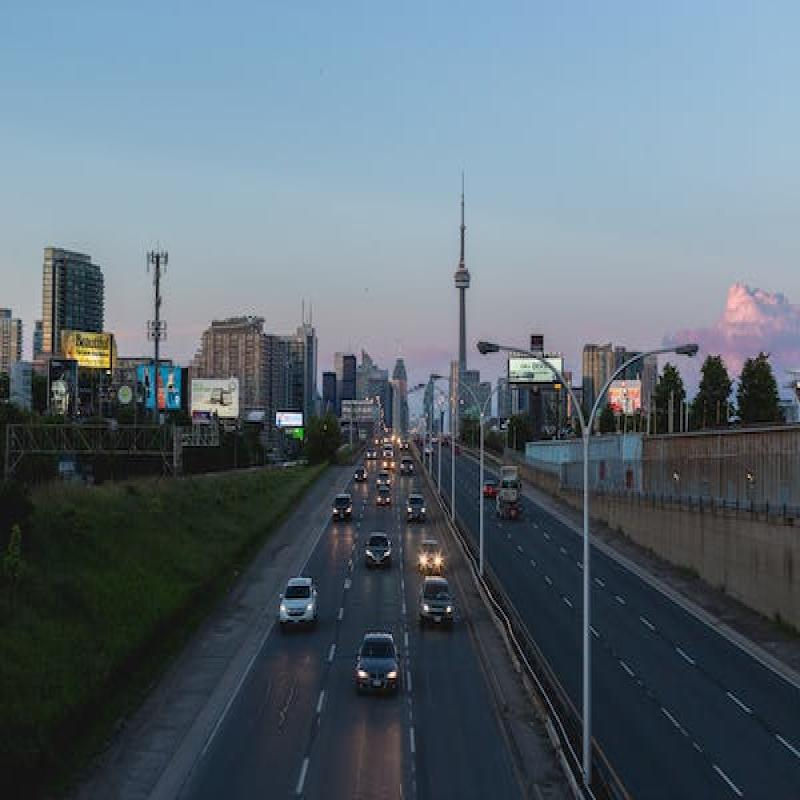car: (356, 618, 410, 699), (274, 566, 325, 642), (418, 568, 460, 626), (416, 520, 450, 587), (358, 528, 398, 580), (326, 488, 357, 527), (370, 473, 396, 510), (407, 488, 425, 532)
